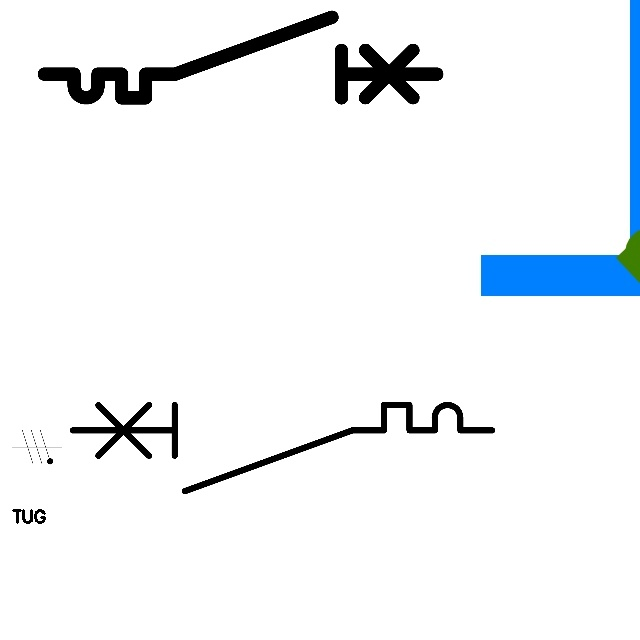interruptor_termomagnetico: (61, 394, 502, 502), (34, 7, 447, 108)
